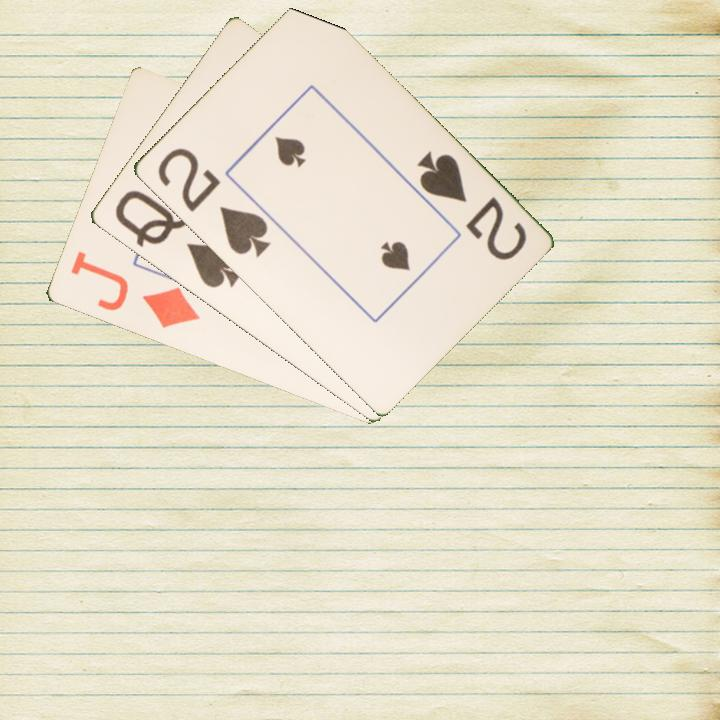2s: (153, 144, 274, 260), (412, 148, 530, 264)
Jd: (66, 247, 203, 331)
Qs: (110, 186, 244, 292)
